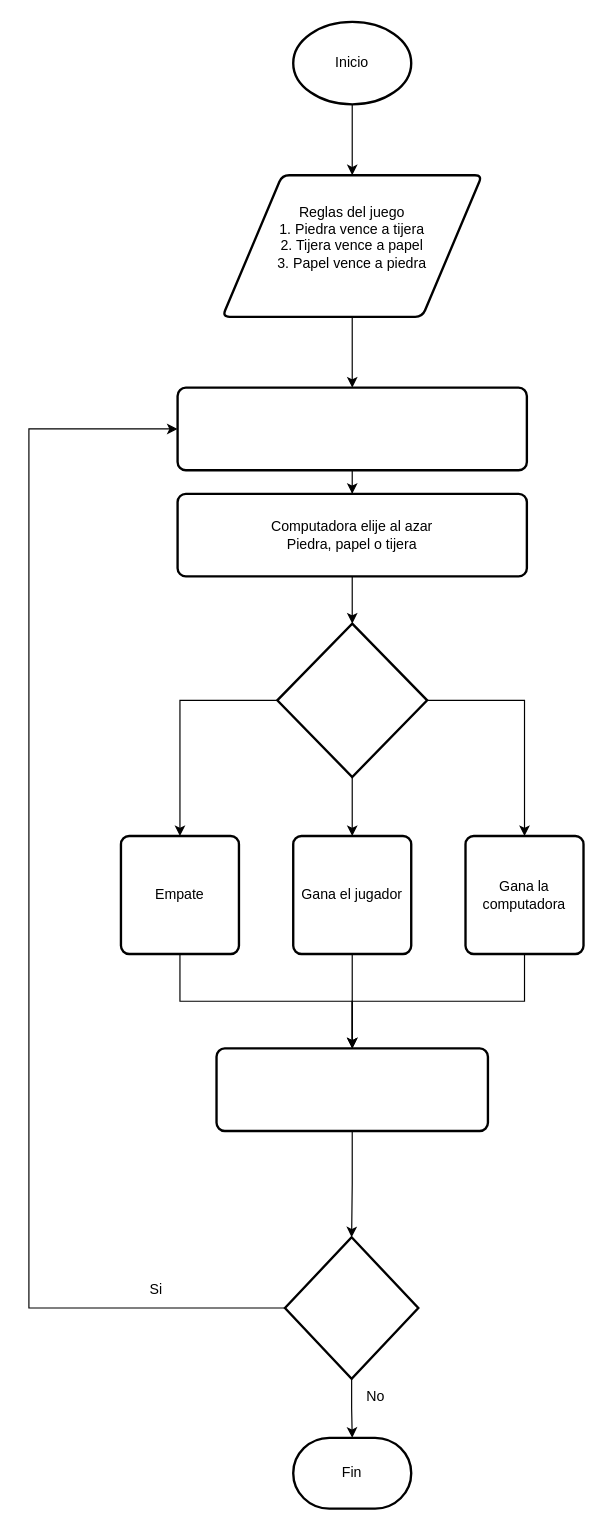
Image size: 605x1529. Some labels were removed from this diagram. The centre of each missing label's shape, as x and y in pixels:
"Jugador elije una opción Piedra, papel o tijera" belongs at [351,428].
"Resultado del juego" belongs at [352,1089].
"¿Quién gana?" belongs at [352,700].
"¿Quiéres jugar de nuevo" belongs at [351,1307].
